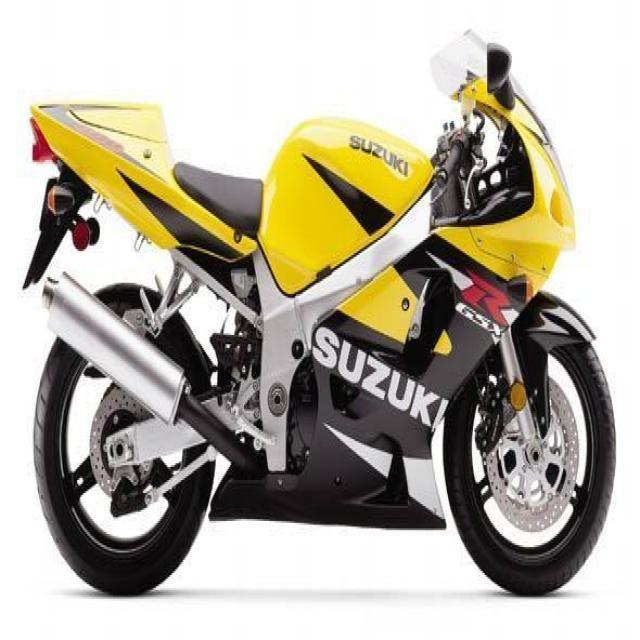Motorcycle: (20, 36, 626, 596)
